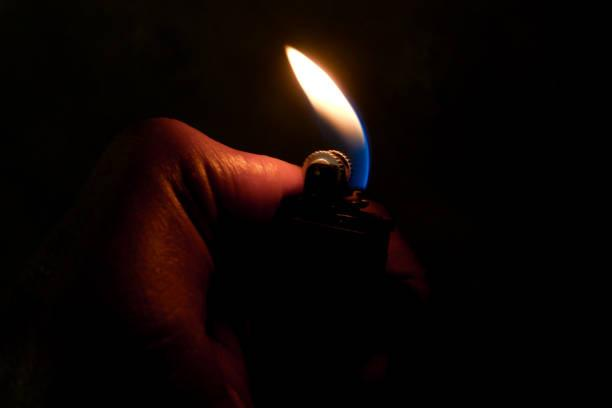Fire: (283, 39, 368, 148)
